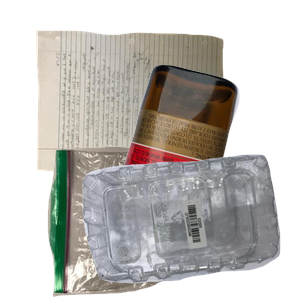glass: (113, 62, 300, 242)
paper: (32, 28, 249, 196)
plastic: (80, 152, 300, 300)
trash: (45, 144, 235, 300)
